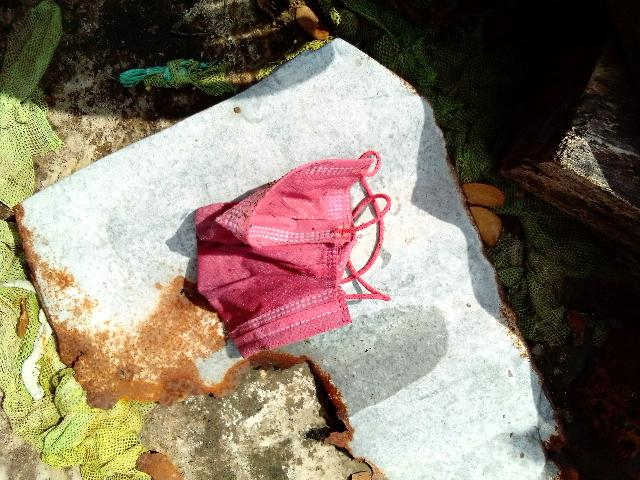mask: (213, 170, 364, 339)
